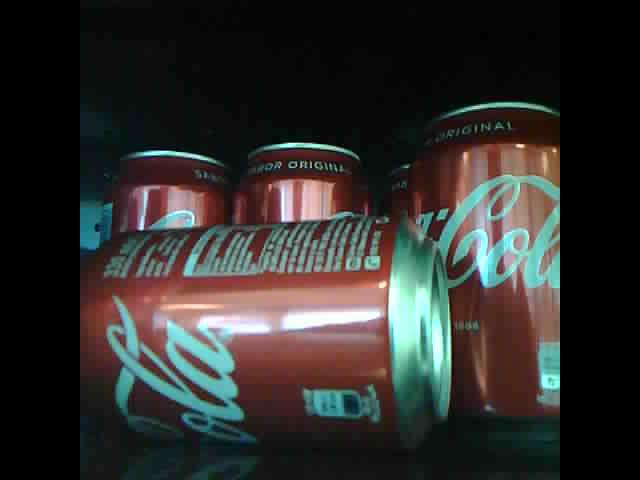coca cola: (80, 202, 452, 449), (430, 95, 559, 420), (228, 132, 373, 219), (109, 146, 228, 234), (379, 150, 431, 248)
